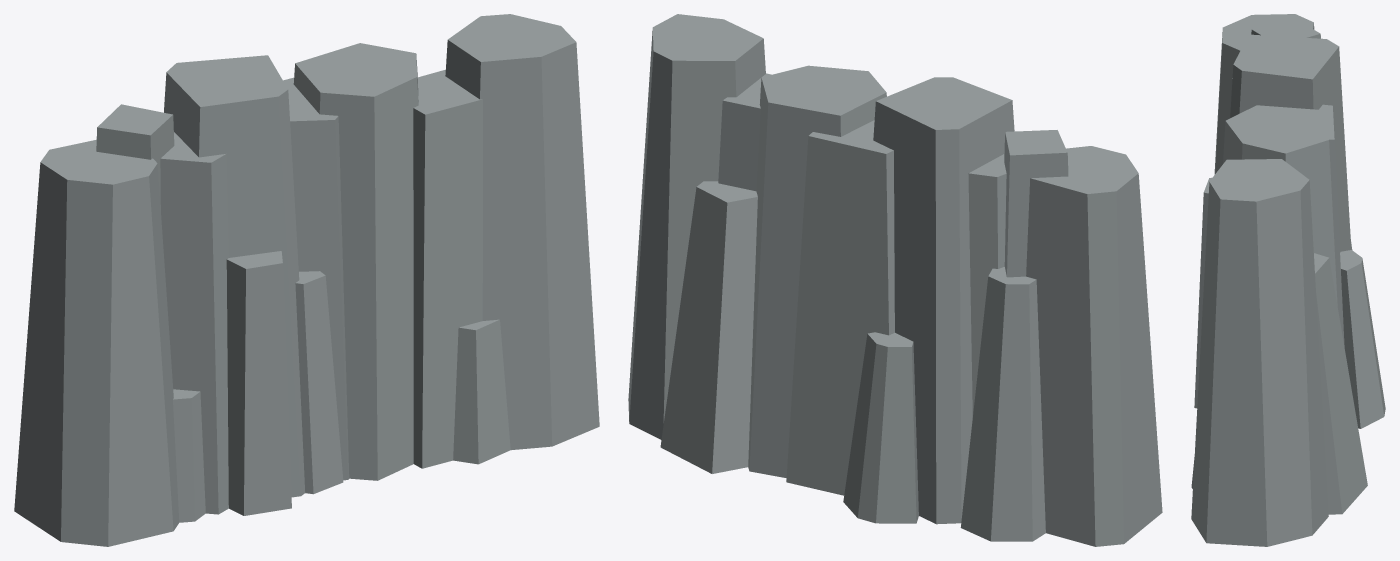
Rendered from NHP_Rock_Wall_Curved_A1_05.fbx.
3 renders of one model, left to right at view 1: azimuth 30°, elevation 25°; view 2: azimuth 150°, elevation 25°; view 3: azimuth 270°, elevation 25°, orthographic. The views are drawn at different scales.
Visible parts, largest first — view 1: NHP_Rock_Wall_Curved_A1_05; view 2: NHP_Rock_Wall_Curved_A1_05; view 3: NHP_Rock_Wall_Curved_A1_05.
Part boxes in pixels (bbox=[...]): NHP_Rock_Wall_Curved_A1_05: bbox=[14, 14, 599, 546]; NHP_Rock_Wall_Curved_A1_05: bbox=[628, 14, 1162, 546]; NHP_Rock_Wall_Curved_A1_05: bbox=[1191, 14, 1385, 546].
Size of the model in its own units: 17.39 by 12.24 by 6.21.
